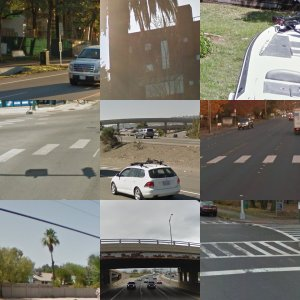棕梠樹: (36, 225, 65, 254)
汽車: (106, 164, 192, 199), (60, 37, 100, 86), (125, 278, 166, 292)
行人穿越道: (200, 217, 300, 266), (1, 132, 100, 172), (199, 148, 299, 170)
